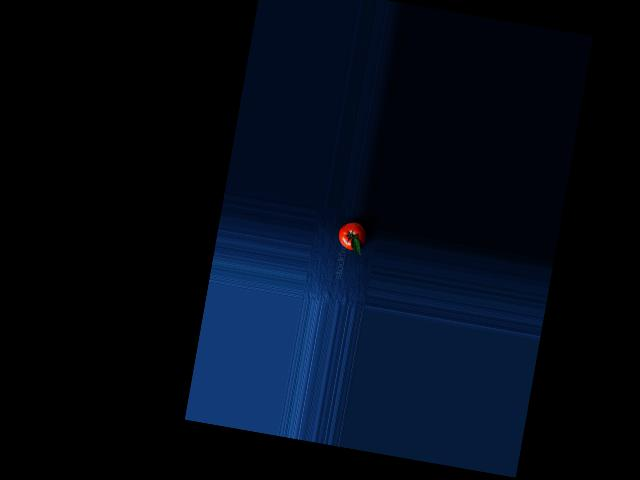tomato: (336, 220, 368, 252)
